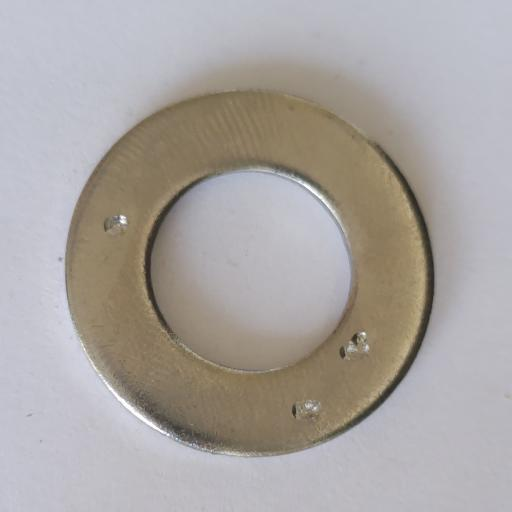circular_cavity: (289, 397, 323, 423), (340, 340, 370, 363), (104, 213, 130, 238), (351, 331, 368, 345)
